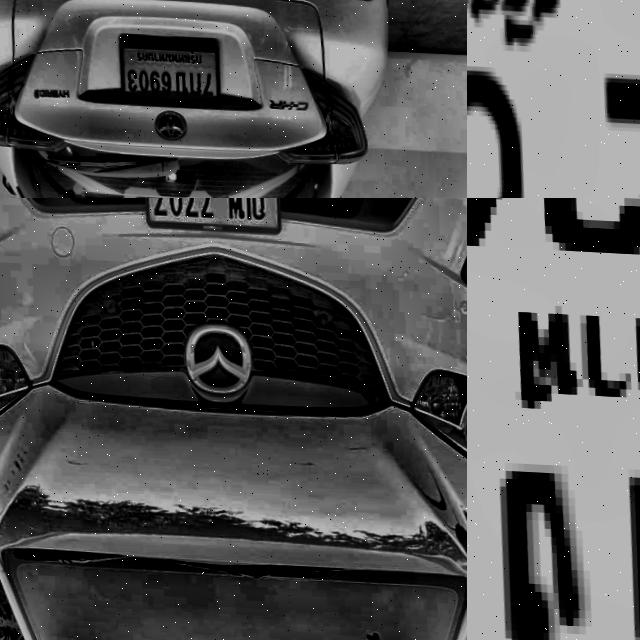license-plate: (467, 198, 640, 640), (467, 0, 640, 198), (101, 26, 223, 114), (134, 198, 286, 240)
